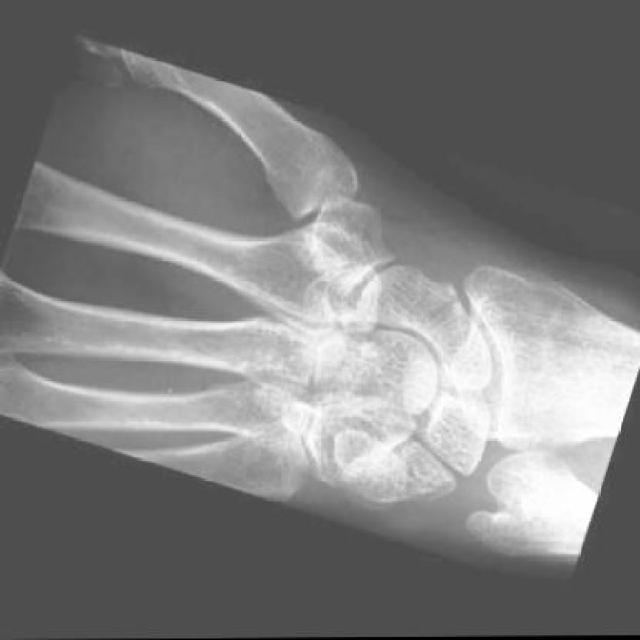Fracture: (408, 274, 464, 348)
